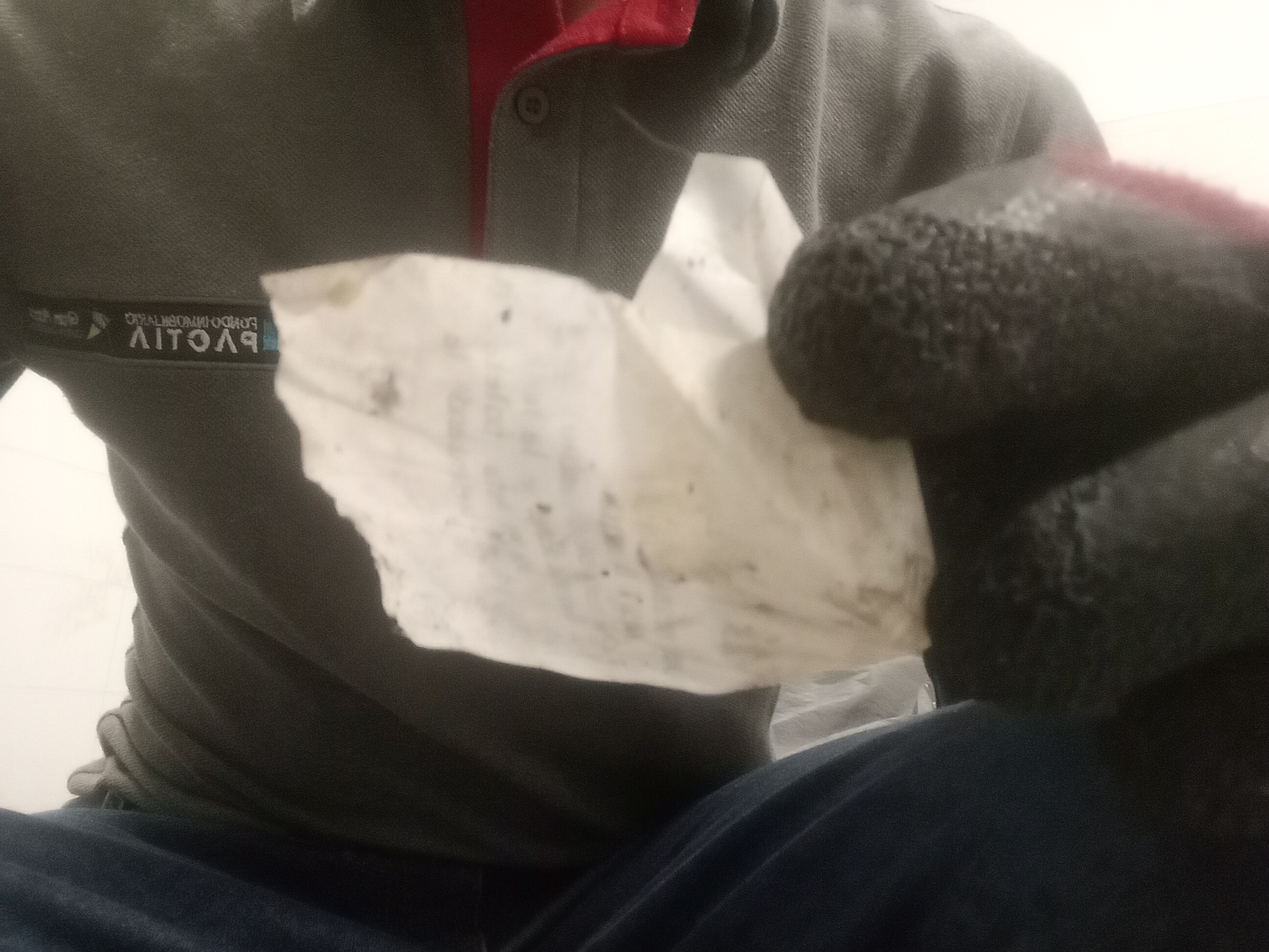Papel: (259, 150, 937, 694)
